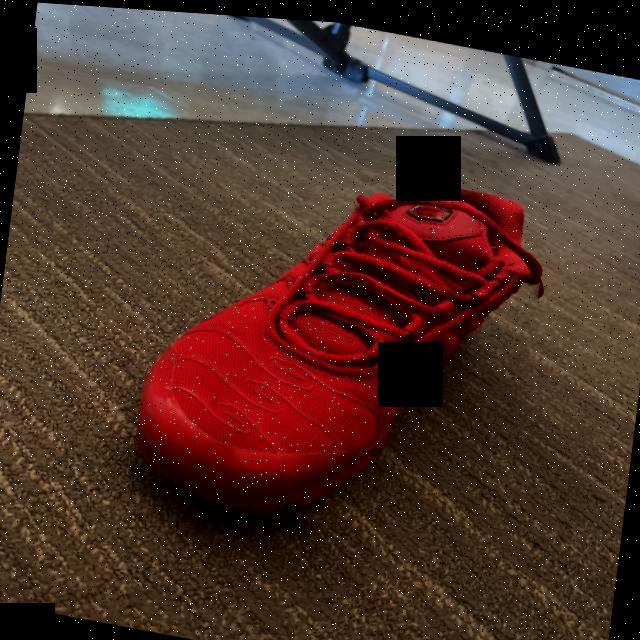shoe: (128, 130, 552, 562)
